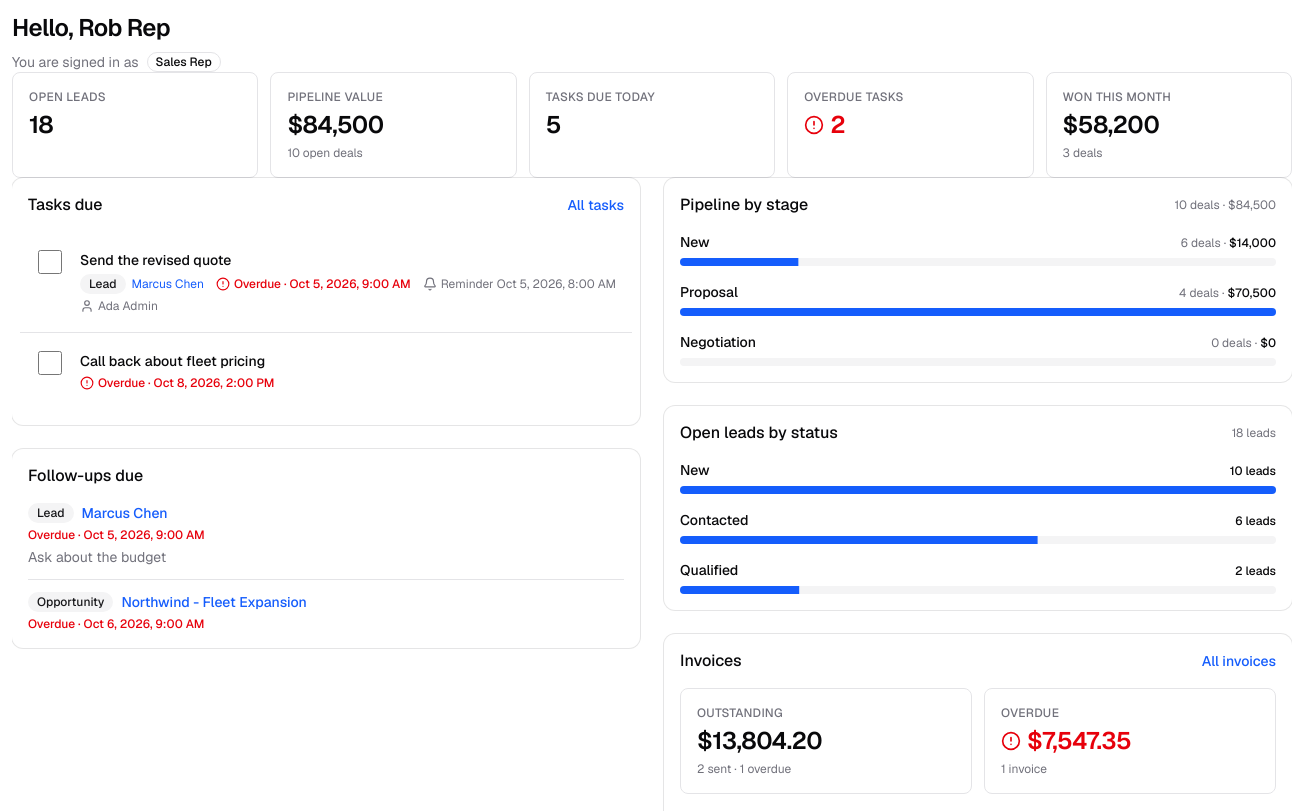
Test: DashboardPage › completes a task from the Tasks due list and loads the numbers again
The image size is (1292, 811).
Check: the list named "Your numbers" is shown, box x1=12 y1=72 x2=1291 y2=178
Click the checkbox named "Complete Send the revised quote".
click(50, 262)  # box x1=38 y1=250 x2=62 y2=274
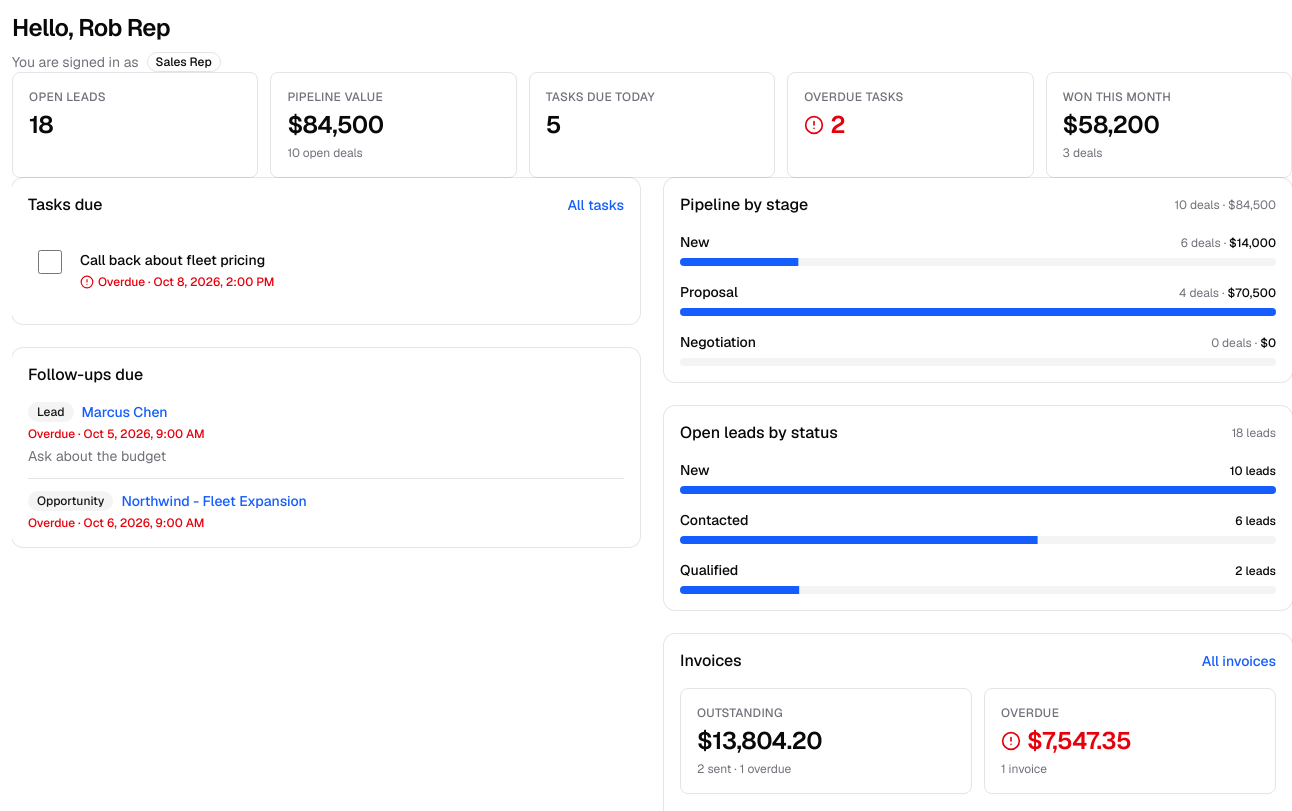
Check: the button "Send the revised quote" is gone
